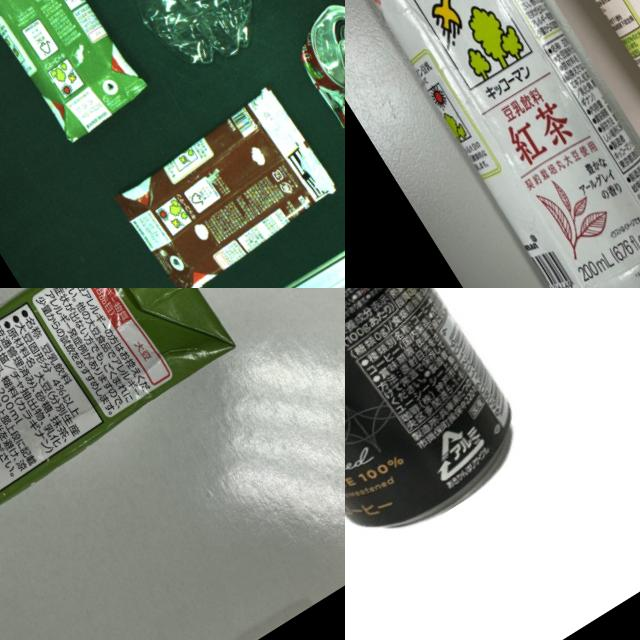Aluminium Foil: (345, 0, 640, 288), (0, 288, 240, 563), (460, 0, 640, 285), (103, 84, 335, 288), (0, 0, 154, 146)
Can: (345, 288, 547, 583), (20, 0, 277, 79), (276, 0, 345, 163)
